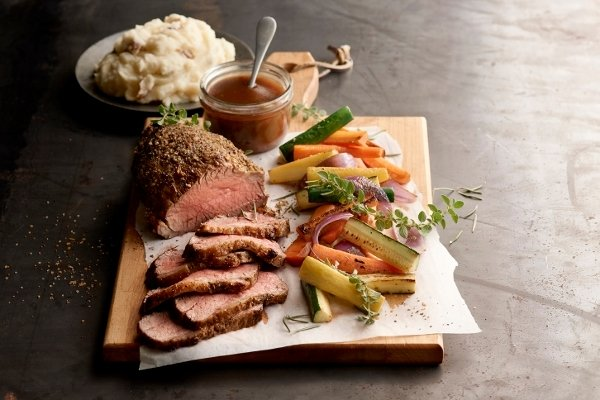salad: (246, 17, 278, 86)
soup: (137, 209, 291, 350), (132, 118, 269, 239)
sushi: (198, 57, 296, 155)
